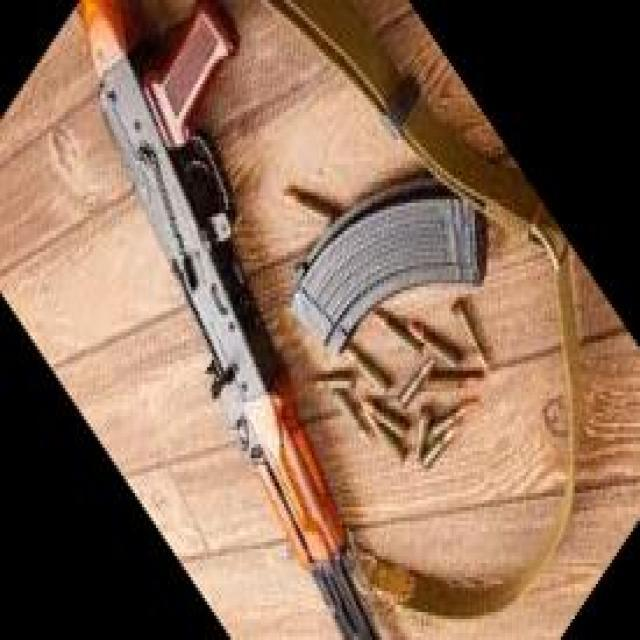weapon: (76, 0, 382, 640)
